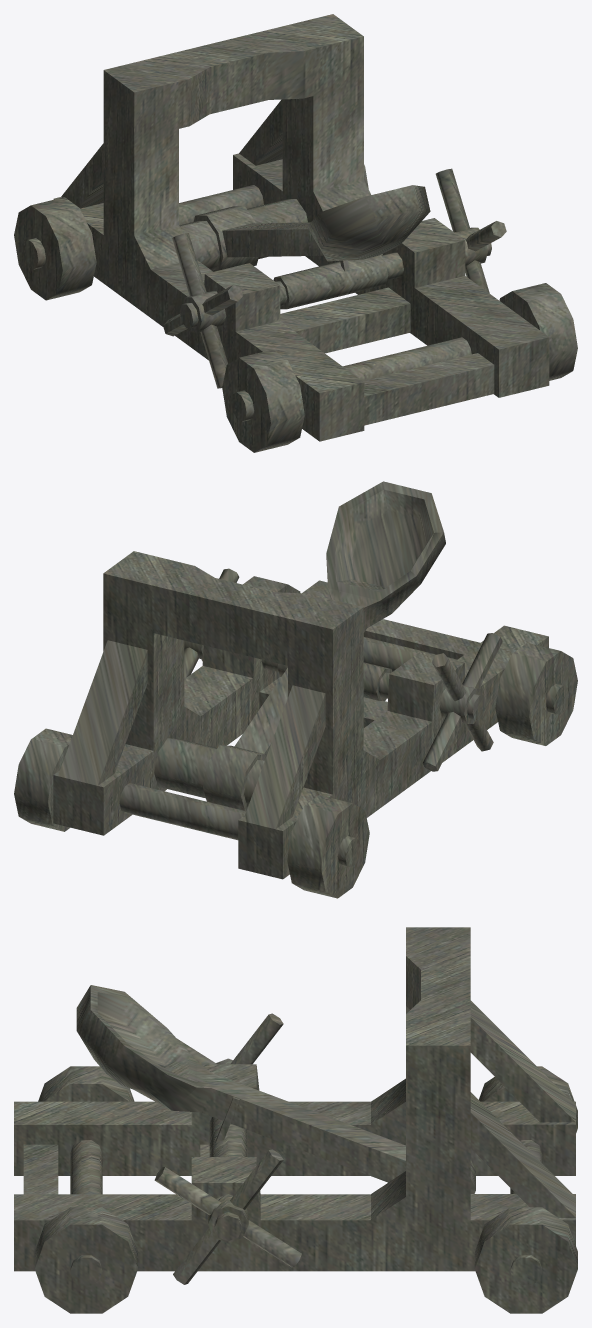
Rendered from sagew1.glb.
The picture shows the model from 3 angles, top to bottom: view 1: azimuth 30°, elevation 25°; view 2: azimuth 150°, elevation 25°; view 3: azimuth 270°, elevation 25°; orthographic projection. The views are drawn at different scales.
Parts seen in each view (by area): view 1: sagew1; view 2: sagew1; view 3: sagew1.
Boxes of the visible parts, x1=… form: sagew1: x1=14, y1=14, x2=577, y2=452; sagew1: x1=14, y1=481, x2=577, y2=898; sagew1: x1=14, y1=927, x2=577, y2=1313.
Size of the model in its own units: 2.75 by 1.94 by 3.99.
Materials: 1 (1 with a texture image).
